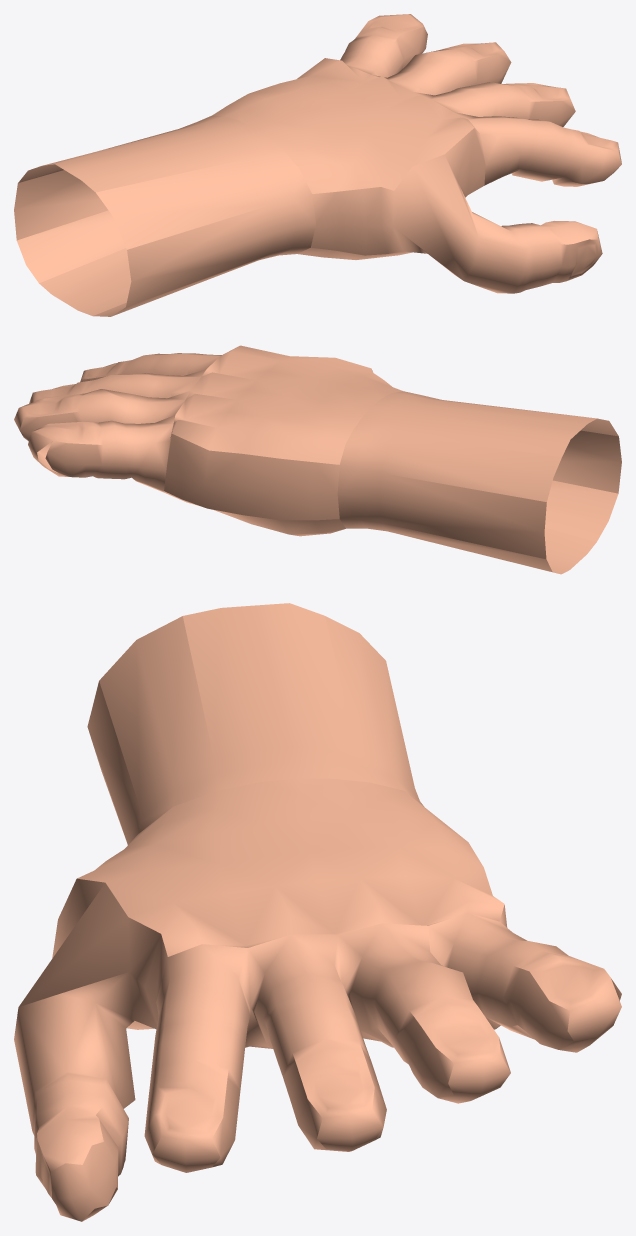
Rendered from Lizard.glb.
The picture shows the model from 3 angles, top to bottom: view 1: azimuth 30°, elevation 25°; view 2: azimuth 150°, elevation 25°; view 3: azimuth 270°, elevation 25°; orthographic projection. The views are drawn at different scales.
Visible parts, largest first — view 1: 25.001; view 2: 25.001; view 3: 25.001.
Boxes of the visible parts, x1=… form: 25.001: x1=14, y1=14, x2=621, y2=316; 25.001: x1=14, y1=345, x2=621, y2=574; 25.001: x1=14, y1=603, x2=621, y2=1221.
Bounding box in the file's own units: 44.34 × 13.77 × 27.51.
